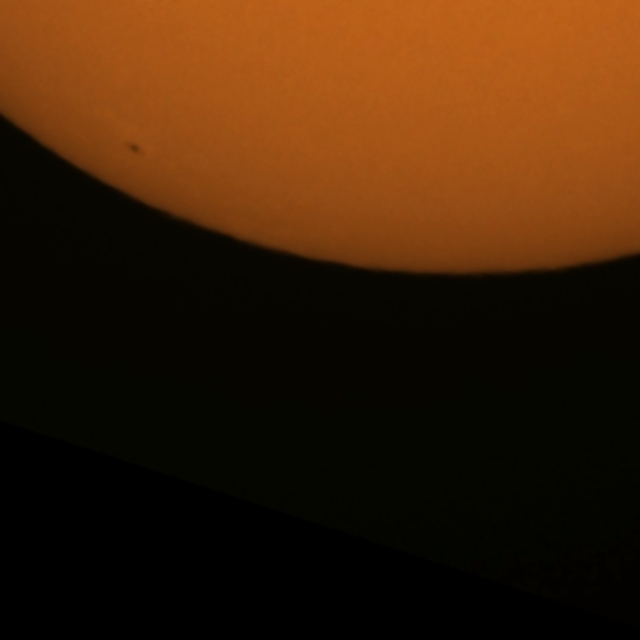sunspot: (124, 140, 143, 158)
